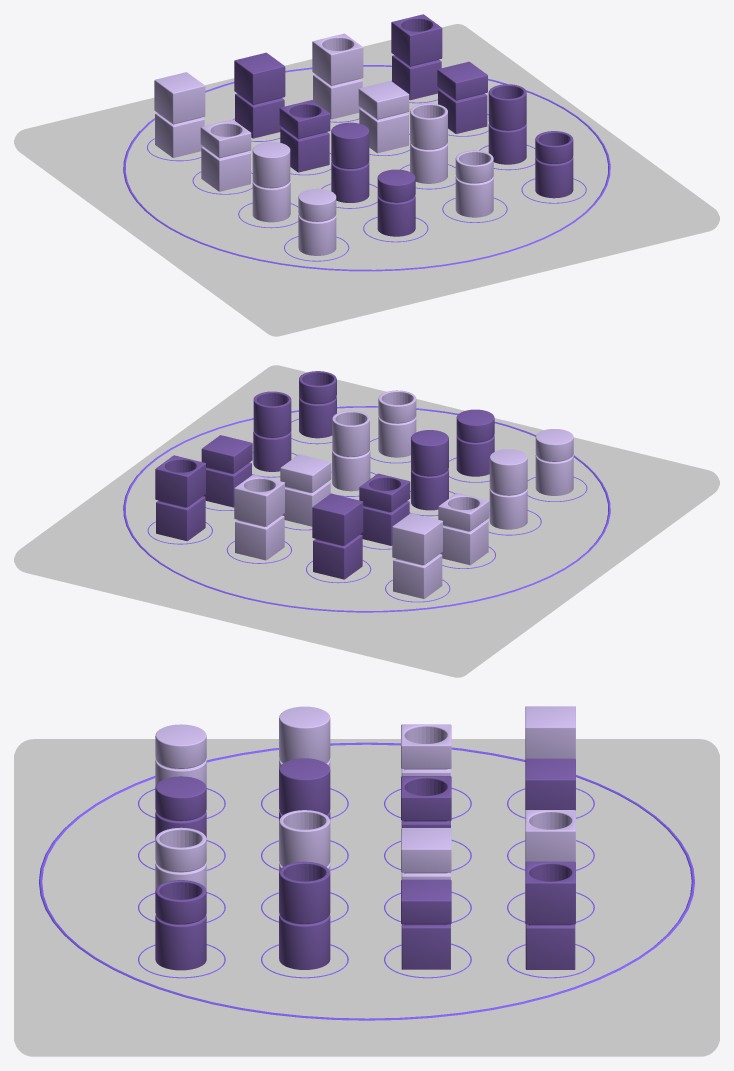
Rendered from quarto.glb.
3 renders of one model, top to bottom at view 1: azimuth 30°, elevation 25°; view 2: azimuth 150°, elevation 25°; view 3: azimuth 270°, elevation 25°, orthographic. The views are drawn at different scales.
Parts seen in each view (by area): view 1: board_0, c_w_1_9, c_w_2_11, c_b_1_10, c_b_2_12, c_w_3_14, c_w_4_13, c_b_3_16, cl_w_1_17, c_b_4_15, cl_b_2_20, cl_b_1_18 (+7 smaller); view 2: board_0, c_b_1_10, c_w_2_11, c_b_2_12, c_w_1_9, c_w_3_14, cl_w_1_17, cl_b_2_20, cl_w_2_19, cl_b_1_18, c_b_3_16, c_b_4_15 (+7 smaller); view 3: board_0, c_b_2_12, cl_b_2_20, c_b_4_15, cl_b_4_24, large_circle_1, small_circle_2, cl_w_4_23, cl_w_3_21, cl_w_1_17, cl_b_1_18, cl_w_2_19 (+7 smaller).
Part boxes in pixels (x1,y1,x2,y2): board_0: (14,24,719,336); c_w_1_9: (154,72,205,157); c_w_2_11: (312,33,363,119); c_b_1_10: (234,52,285,138); c_b_2_12: (391,14,442,100); c_w_3_14: (200,119,251,191); c_w_4_13: (358,81,409,153); c_b_3_16: (279,100,330,172); cl_w_1_17: (252,142,290,222); c_b_4_15: (437,61,487,133); cl_b_2_20: (488,84,526,164); cl_b_1_18: (331,122,369,202); board_0: (14,365,719,677); c_b_1_10: (312,493,363,579); c_w_2_11: (234,474,284,560); c_b_2_12: (155,455,205,541); c_w_1_9: (392,513,442,598); c_w_3_14: (438,493,489,565); cl_w_1_17: (489,449,527,529); cl_b_2_20: (253,391,291,471); cl_w_2_19: (332,410,370,491); cl_b_1_18: (411,430,448,510); c_b_3_16: (359,473,410,545); c_b_4_15: (201,435,252,507); board_0: (14,739,719,1056); c_b_2_12: (525,861,575,969); cl_b_2_20: (279,861,330,969); c_b_4_15: (401,879,451,969); cl_b_4_24: (155,880,206,970); large_circle_1: (39,742,694,1020); small_circle_2: (138,788,594,978); cl_w_4_23: (155,827,206,890); cl_w_3_21: (155,724,206,787); cl_w_1_17: (279,706,330,769); cl_b_1_18: (279,758,330,820); cl_w_2_19: (279,810,330,872).
Size of the model in its own units: 0.8 by 0.1493 by 0.8.
